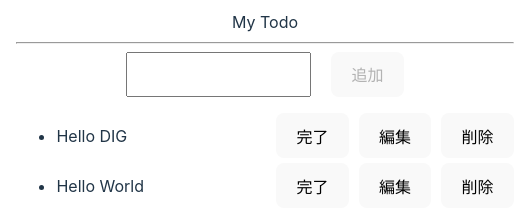
Test: App Tests › 編集ボタンを押した場合、todo_inputに表示される
Click the button "編集" in the row of "Hello DIG" at point(395, 136), box [359,113,431,158]
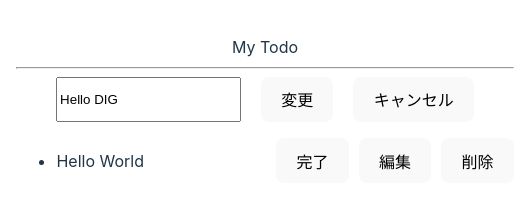
Expected: the field holds "Hello DIG", [56,77,241,122]
